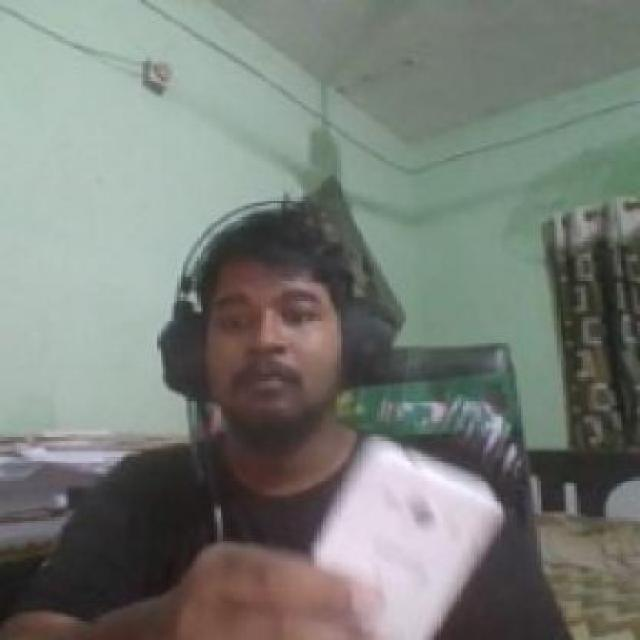Phone: (307, 436, 507, 640)
